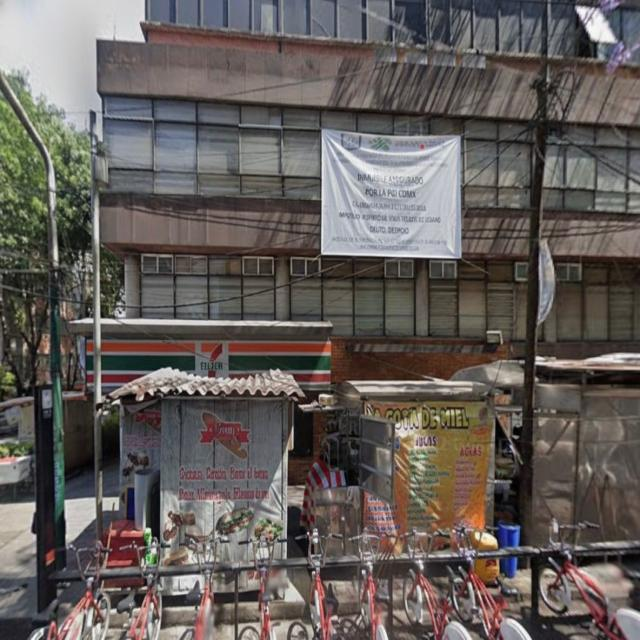stamps: (320, 132, 462, 257)
